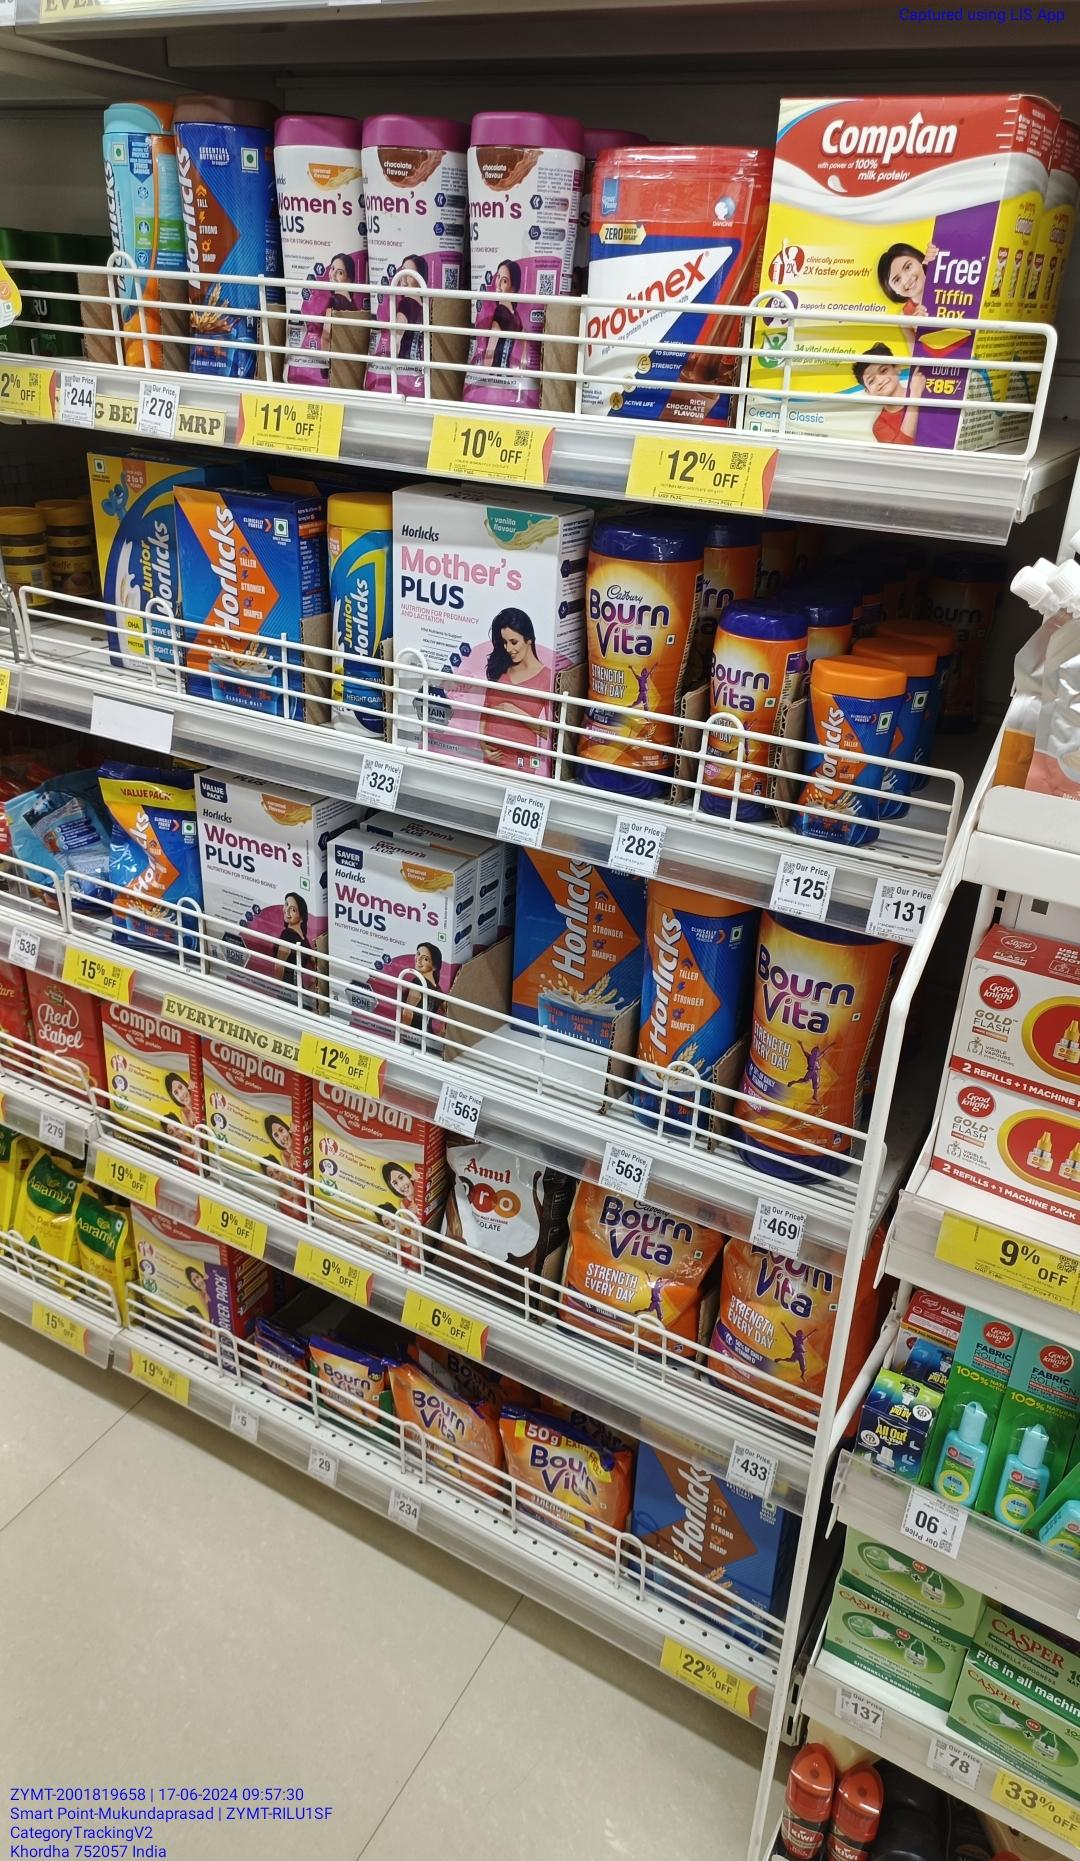BOURN_VITA_1_KG_JAR: (752, 896, 877, 1193)
BOURN_VITA_200_G_JAR: (706, 600, 779, 829)
BOURN_VITA_500_G_JAR: (580, 519, 680, 810)
COMPLAN_CREAMY_CLASSIC_500_G_PACK: (765, 96, 980, 445)
HORLICKS_JUNIOR_VANILLA_500_GM_JAR: (324, 495, 402, 736)
HORLICK_CHOCOLATE_1_KG_JAR: (174, 85, 260, 373)
HORLICK_CHOCOLATE_500_G_JAR: (636, 868, 730, 1137)
HORLICK_CLASSIC_MALT_200_G_JAR: (802, 662, 885, 843)
HORLICK_CLASSIC_MALT_500_G_PACK: (183, 492, 303, 712)
PROTINEX_CHOCOLATE_400_G_JAR: (585, 147, 747, 432)
